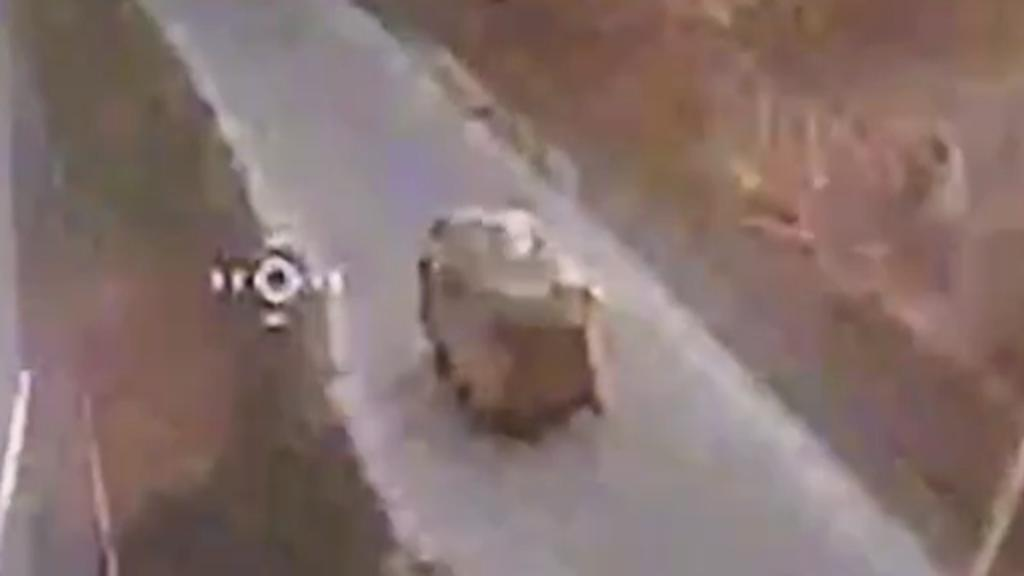CAR: (410, 202, 602, 432)
